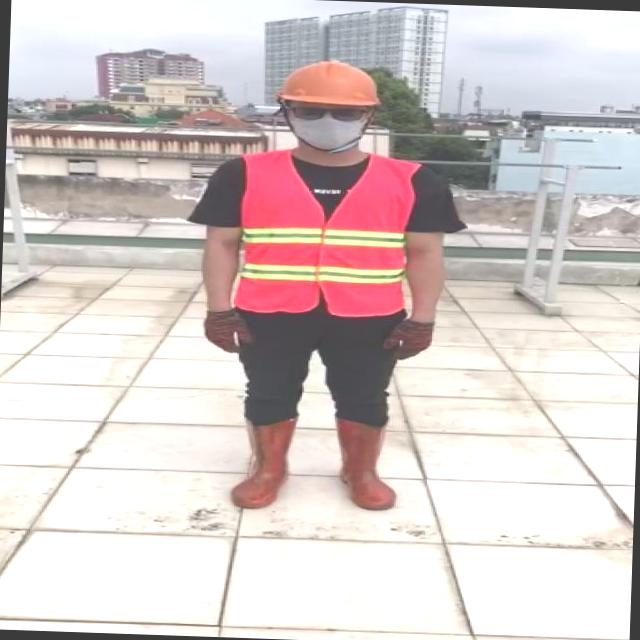boots: (228, 412, 295, 513), (332, 416, 396, 510)
helmet: (272, 60, 391, 106)
vest: (226, 146, 424, 318)
